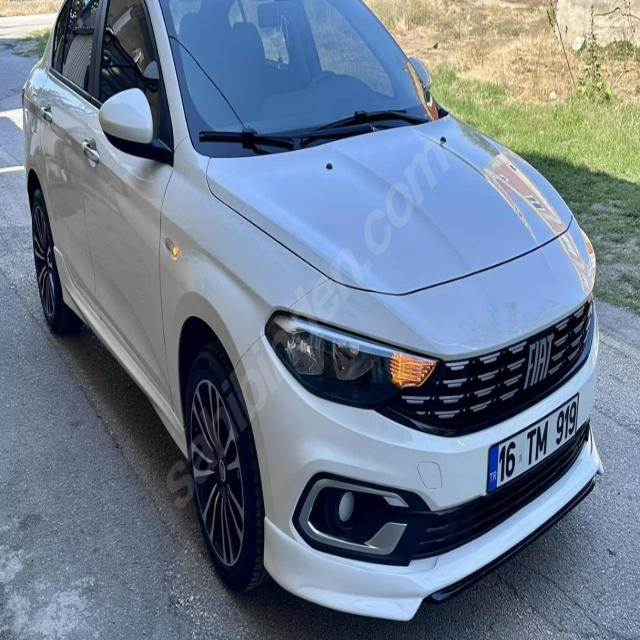fiat: (514, 326, 560, 391)
